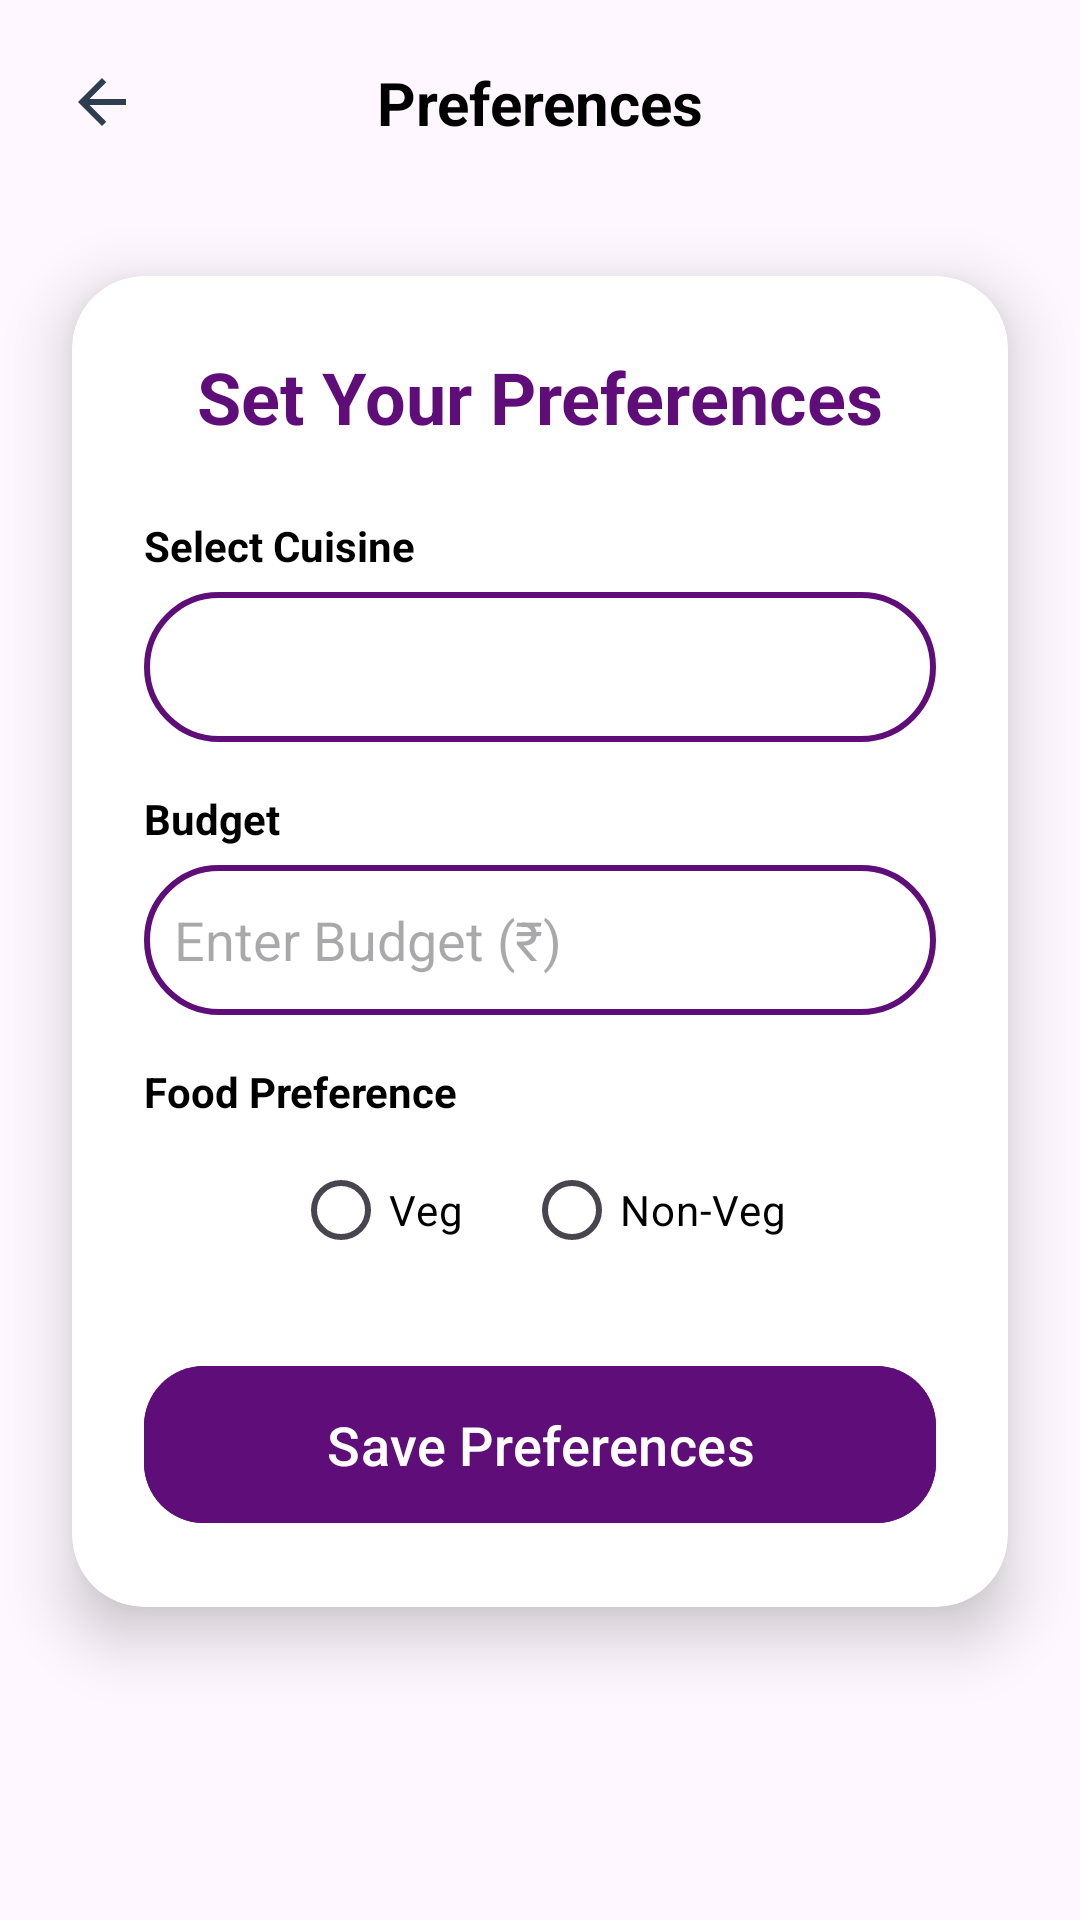

Locate icon controls on the screen. Image size 1080w x 1920h, boxes as (x1, y1, x2, y2).
Back: (78, 78, 126, 126)
